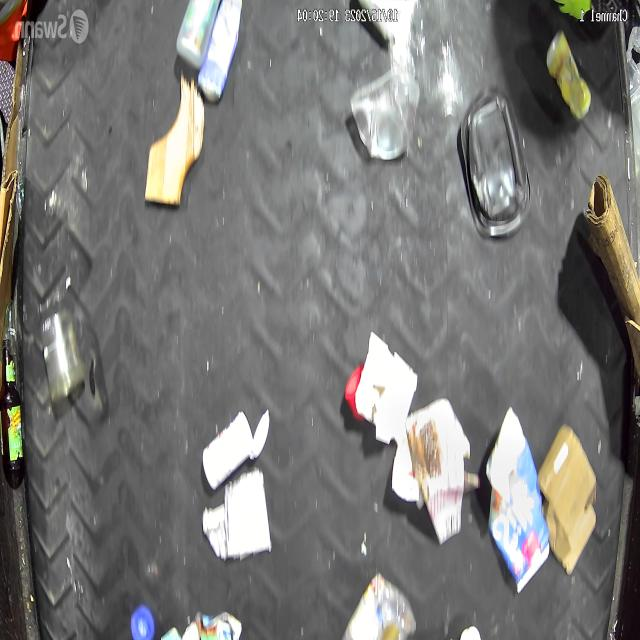can: (350, 66, 410, 165), (222, 464, 274, 560)
